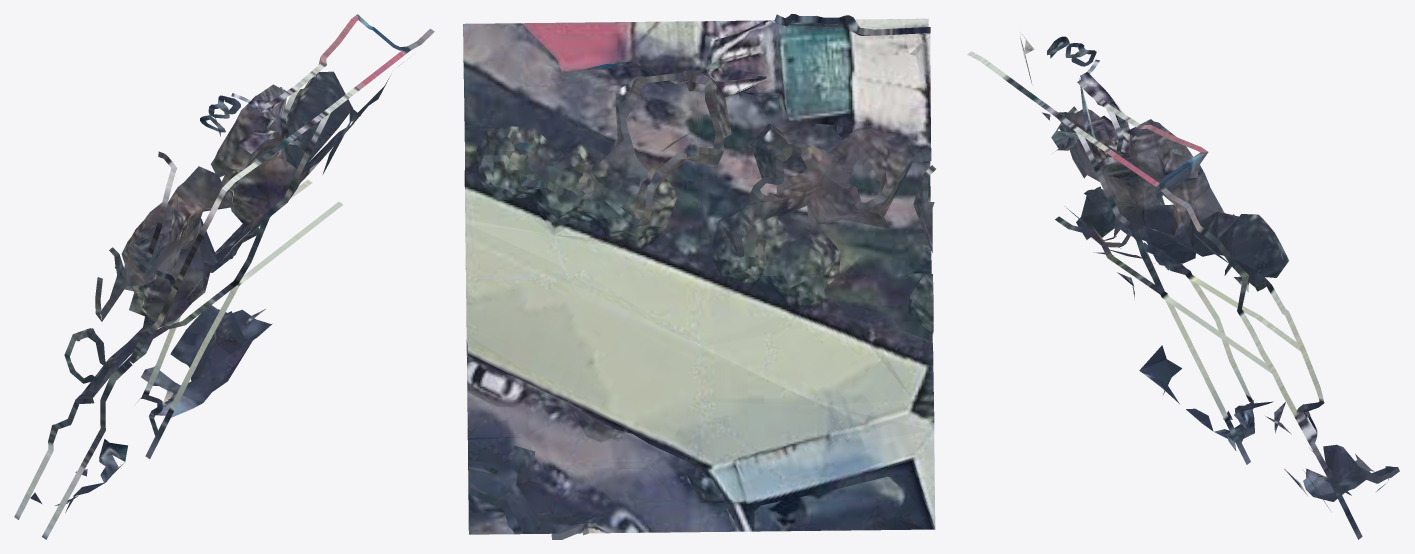
3 views of the same model, side by side, from view 1: azimuth 30°, elevation 25°; view 2: azimuth 150°, elevation 25°; view 3: azimuth 270°, elevation 25° (orthographic). The views are drawn at different scales.
Bounding box in the file's own units: 39.72 × 37.45 × 35.7.
2 materials, 2 textured.
